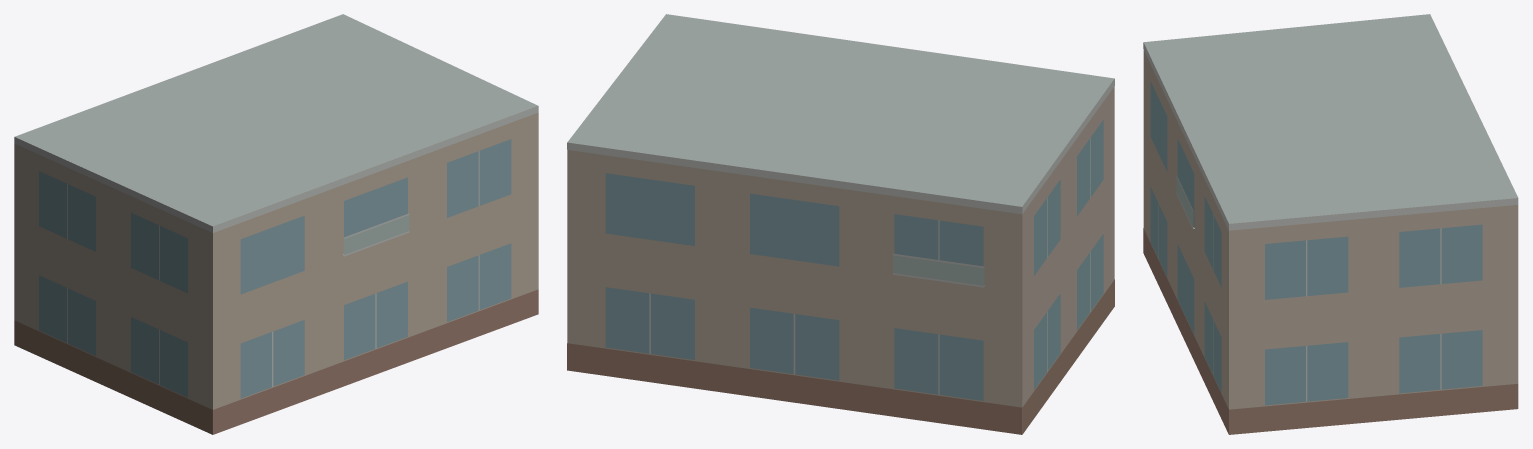
The model's file is survey-upis-32631912.glb.
3 views of the same model, side by side, from view 1: azimuth 30°, elevation 25°; view 2: azimuth 150°, elevation 25°; view 3: azimuth 270°, elevation 25° (orthographic). The views are drawn at different scales.
Parts seen in each view (by area): view 1: survey-upis-32631912.tmp; view 2: survey-upis-32631912.tmp; view 3: survey-upis-32631912.tmp.
Boxes of the visible parts, <box> form: survey-upis-32631912.tmp: <box>14,14,538,434</box>; survey-upis-32631912.tmp: <box>567,14,1114,434</box>; survey-upis-32631912.tmp: <box>1143,14,1518,434</box>.
Bounding box in the file's own units: 16.23 × 7.6 × 12.25.
